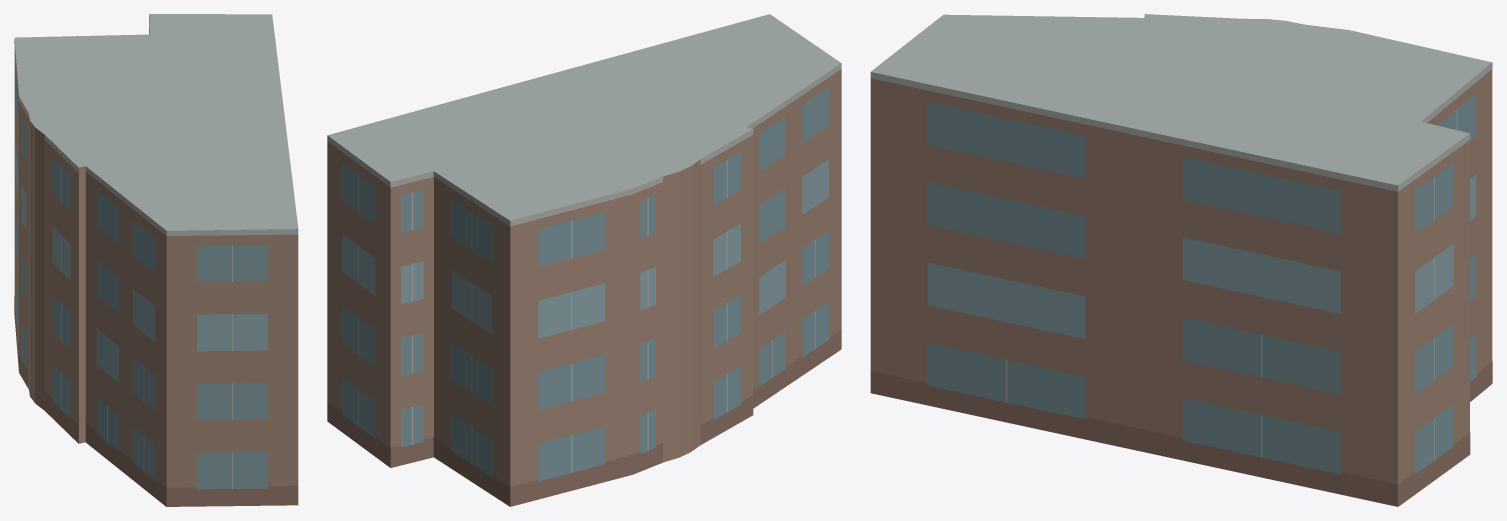
The model's file is survey-upis-32734328.glb.
The picture shows the model from 3 angles, left to right: view 1: azimuth 30°, elevation 25°; view 2: azimuth 150°, elevation 25°; view 3: azimuth 270°, elevation 25°; orthographic projection. The views are drawn at different scales.
Visible parts, largest first — view 1: survey-upis-32734328.tmp; view 2: survey-upis-32734328.tmp; view 3: survey-upis-32734328.tmp.
Part boxes in pixels (left/top/right/bottom): survey-upis-32734328.tmp: left=14, top=14, right=298, bottom=506; survey-upis-32734328.tmp: left=327, top=14, right=841, bottom=506; survey-upis-32734328.tmp: left=870, top=14, right=1492, bottom=506.
Bounding box in the file's own units: 14.22 × 12.4 × 21.76.
